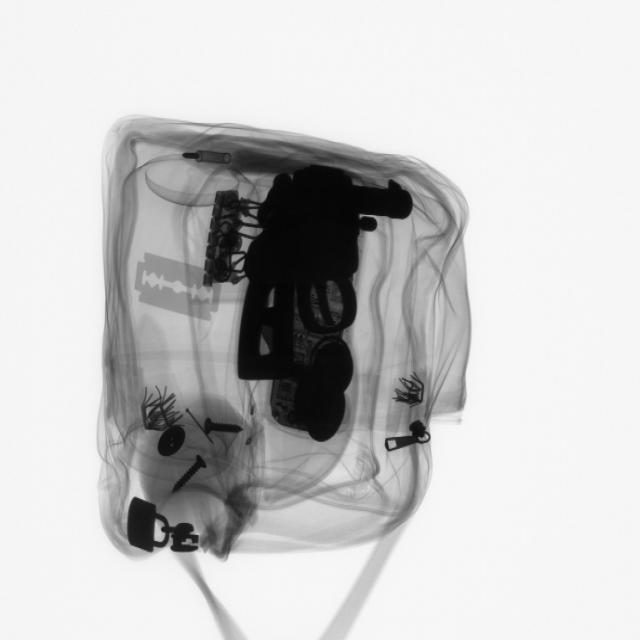BLADE: (126, 246, 231, 336)
GUN: (233, 165, 413, 385)
SCREW: (171, 451, 211, 500), (197, 413, 250, 444)
